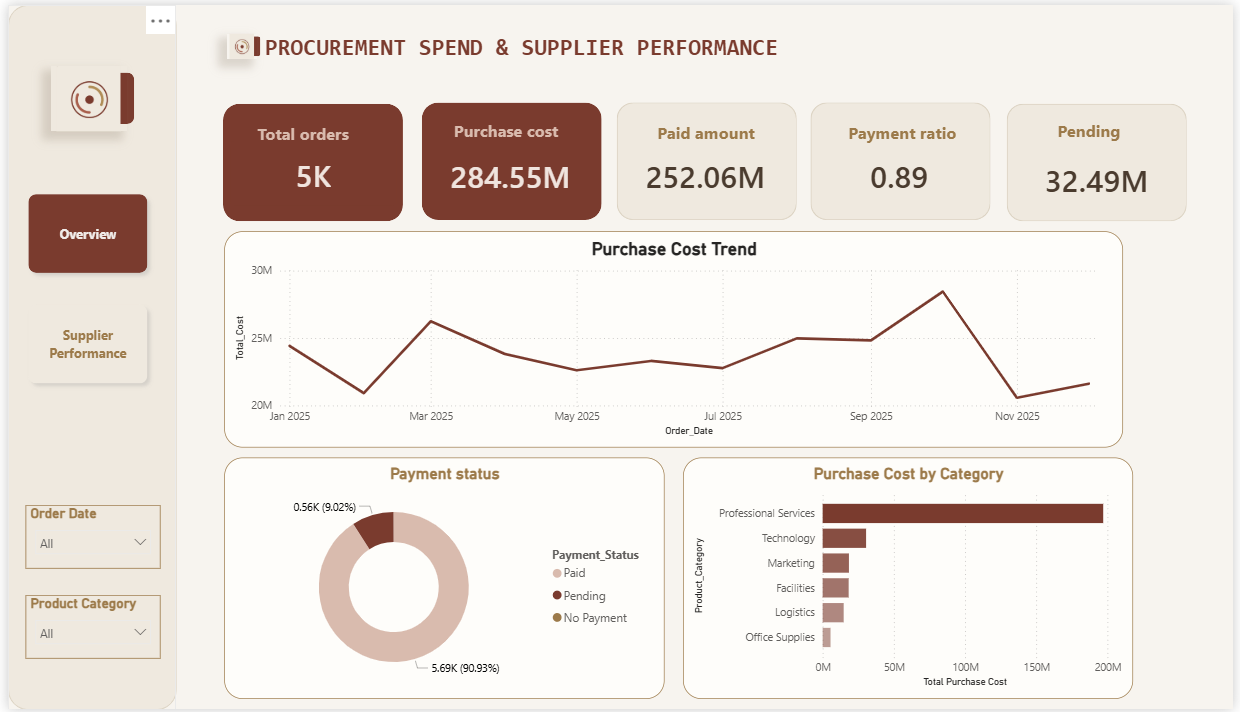

What the dashboard file says about the page in this screenshot:
{"tool":"powerbi","page":{"name":"Overview","canvas":[1400,805],"ordinal":0},"visuals":[{"type":"shape","box":[257.1,36.7,31.4,23],"z":0,"group":"g8"},{"type":"shape","box":[65,77.7,80.1,58.9],"z":0,"group":"g9"},{"type":"shape","box":[473.1,111.6,205.7,134.3],"z":0,"group":"g2"},{"type":"shape","box":[695.6,111.6,205.7,134.3],"z":0,"group":"g3"},{"type":"shape","box":[918.1,111.6,205.7,134.3],"z":0,"group":"g4"},{"type":"group","id":"g1","title":"Group 1","box":[237.1,112.3,224.3,134.3],"z":0},{"type":"shape","box":[246.1,112.3,205.7,134.3],"z":0,"group":"g1"},{"type":"shape","box":[1140.6,112.3,205.7,134.3],"z":0,"group":"g5"},{"type":"shape","box":[0,0,192.9,805.7],"z":1000},{"type":"pageNavigator","box":[13.7,207.4,154.7,235.3],"z":2000},{"type":"textbox","box":[280,130,138.6,52.9],"z":3000},{"type":"cardVisual","fields":{"Data":["payments_clean.Total Purchase Orders"]},"box":[237.1,138.6,224.3,108.6],"z":3000,"group":"g1"},{"type":"cardVisual","fields":{"Data":["payments_clean.Total Purchase Cost"]},"box":[463.9,141.6,220,105.7],"z":3000,"group":"g2"},{"type":"cardVisual","fields":{"Data":["payments_clean.Total Paid Amount"]},"box":[686.4,141.6,220,105.7],"z":3000,"group":"g3"},{"type":"cardVisual","fields":{"Data":["payments_clean.Payment Rate"]},"box":[908.9,141.6,220,105.7],"z":3000,"group":"g4"},{"type":"cardVisual","fields":{"Data":["payments_clean.Outstanding Amount"]},"box":[1133.7,144.7,220,105.7],"z":3000,"group":"g5"},{"type":"group","id":"g2","title":"Group 1","box":[463.9,111.6,220,135.7],"z":4000,"group":"g10"},{"type":"group","id":"g3","title":"Group 1","box":[686.4,111.6,220,135.7],"z":4000},{"type":"group","id":"g4","title":"Group 1","box":[908.9,111.6,220,135.7],"z":5000},{"type":"group","id":"g5","title":"Group 1","box":[1133.7,112.3,220,138.1],"z":6000},{"type":"textbox","box":[728.6,128.6,138.6,52.9],"z":7000},{"type":"textbox","box":[504.3,125.7,138.6,52.9],"z":8000,"group":"g10"},{"type":"textbox","box":[938.6,128.6,167.1,52.9],"z":8000},{"type":"textbox","box":[1194.3,125.7,138.6,52.9],"z":9000},{"type":"lineChart","title":"Purchase Cost Trend","fields":{"Y":["payments_clean.Total Purchase Cost"],"Category":["purchase_orders_clean.Order_Date.Variation.Date Hierarchy.Year","purchase_orders_clean.Order_Date.Variation.Date Hierarchy.Quarter","purchase_orders_clean.Order_Date.Variation.Date Hierarchy.Month"]},"box":[247.1,258.6,1027.1,247.1],"z":10000},{"type":"donutChart","title":"Payment status","fields":{"Category":["payments_clean.Payment_Status"],"Y":["payments_clean.Payment Amount by Status"]},"box":[247.1,517.1,502.9,275.7],"z":11000},{"type":"clusteredBarChart","title":"Purchase Cost by Category","fields":{"Category":["purchase_orders_clean.Product_Category"],"Y":["payments_clean.Total Purchase Cost"]},"box":[771.4,517.1,514.3,275.7],"z":12000},{"type":"group","id":"g6","title":"Group 2","box":[48.6,70,97.1,74.3],"z":13000},{"type":"slicer","title":"Order Date","fields":{"Values":["purchase_orders_clean.Order_Date.Variation.Date Hierarchy.Year","purchase_orders_clean.Order_Date.Variation.Date Hierarchy.Quarter","purchase_orders_clean.Order_Date.Variation.Date Hierarchy.Month","purchase_orders_clean.Order_Date.Variation.Date Hierarchy.Day"]},"box":[20,571.4,154.3,72.9],"z":14000},{"type":"slicer","title":"Product Category","fields":{"Values":["purchase_orders_clean.Product_Category"]},"box":[20,674.3,154.3,72.9],"z":15000},{"type":"group","id":"g7","title":"Group 3","box":[250.7,27.3,658.4,62.7],"z":16000},{"type":"group","id":"g8","title":"Group 1","box":[257.1,36.7,31.4,23],"z":16000,"group":"g11"},{"type":"group","id":"g9","title":"Group 1","box":[65,77.7,80.1,58.9],"z":16000,"group":"g6"},{"type":"image","box":[250.7,33.7,34.5,29.1],"z":17000,"group":"g11"},{"type":"image","box":[48.6,70,87.5,74.2],"z":17000,"group":"g6"},{"type":"group","id":"g10","title":"Group 4","box":[463.9,111.6,220,135.7],"z":17000},{"type":"textbox","box":[289.1,27.3,620,62.7],"z":18000,"group":"g7"},{"type":"group","id":"g11","title":"Group 2","box":[250.7,33.7,37.9,29.1],"z":19000,"group":"g7"}]}

Visuals, with their boxes in screenshot pixels (x1, y1, x2, y2), scaled from the page's 1400x805 canvas onto the 1240x712 screenshot:
shape: <bbox>228, 32, 256, 53</bbox>
shape: <bbox>58, 69, 129, 121</bbox>
shape: <bbox>419, 99, 601, 217</bbox>
shape: <bbox>616, 99, 798, 217</bbox>
shape: <bbox>813, 99, 995, 217</bbox>
"Group 1" group: <bbox>210, 99, 409, 218</bbox>
shape: <bbox>218, 99, 400, 218</bbox>
shape: <bbox>1010, 99, 1192, 218</bbox>
shape: <bbox>0, 0, 171, 711</bbox>
pageNavigator: <bbox>12, 183, 149, 392</bbox>
textbox: <bbox>248, 115, 371, 162</bbox>
cardVisual - payments_clean.Total Purchase Orders: <bbox>210, 123, 409, 219</bbox>
cardVisual - payments_clean.Total Purchase Cost: <bbox>411, 125, 606, 219</bbox>
cardVisual - payments_clean.Total Paid Amount: <bbox>608, 125, 803, 219</bbox>
cardVisual - payments_clean.Payment Rate: <bbox>805, 125, 1000, 219</bbox>
cardVisual - payments_clean.Outstanding Amount: <bbox>1004, 128, 1199, 221</bbox>
"Group 1" group: <bbox>411, 99, 606, 219</bbox>
"Group 1" group: <bbox>608, 99, 803, 219</bbox>
"Group 1" group: <bbox>805, 99, 1000, 219</bbox>
"Group 1" group: <bbox>1004, 99, 1199, 221</bbox>
textbox: <bbox>645, 114, 768, 161</bbox>
textbox: <bbox>447, 111, 569, 158</bbox>
textbox: <bbox>831, 114, 979, 161</bbox>
textbox: <bbox>1058, 111, 1181, 158</bbox>
"Purchase Cost Trend" lineChart: <bbox>219, 229, 1129, 447</bbox>
"Payment status" donutChart: <bbox>219, 457, 664, 701</bbox>
"Purchase Cost by Category" clusteredBarChart: <bbox>683, 457, 1139, 701</bbox>
"Group 2" group: <bbox>43, 62, 129, 128</bbox>
"Order Date" slicer: <bbox>18, 505, 154, 570</bbox>
"Product Category" slicer: <bbox>18, 596, 154, 661</bbox>
"Group 3" group: <bbox>222, 24, 805, 80</bbox>
"Group 1" group: <bbox>228, 32, 256, 53</bbox>
"Group 1" group: <bbox>58, 69, 129, 121</bbox>
image: <bbox>222, 30, 253, 56</bbox>
image: <bbox>43, 62, 121, 128</bbox>
"Group 4" group: <bbox>411, 99, 606, 219</bbox>
textbox: <bbox>256, 24, 805, 80</bbox>
"Group 2" group: <bbox>222, 30, 256, 56</bbox>
